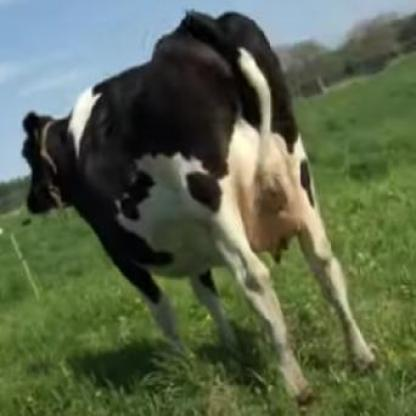cow: (23, 17, 378, 406)
